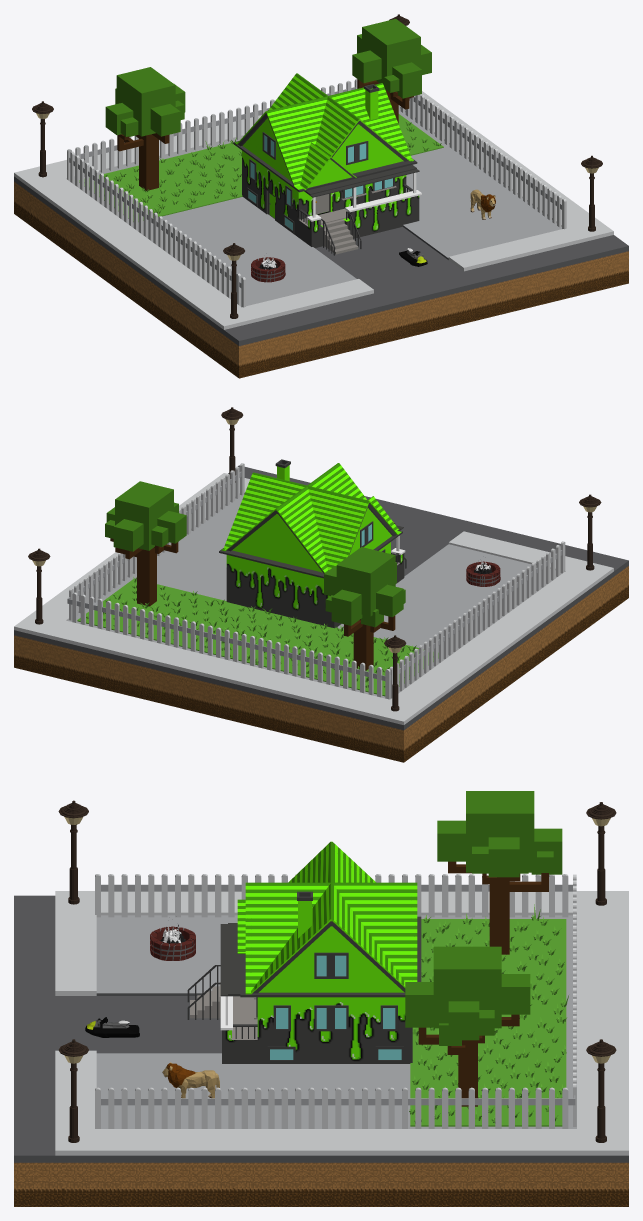
3 views of the same model, one above another, from view 1: azimuth 30°, elevation 25°; view 2: azimuth 150°, elevation 25°; view 3: azimuth 270°, elevation 25° (orthographic). The views are drawn at different scales.
Parts seen in each view (by area): view 1: Cube.004, Cube.754, OBJRANDOM_CAMPFIRE, ANIMAL_LEON; view 2: Cube.004, Cube.754, OBJRANDOM_CAMPFIRE; view 3: Cube.004, Cube.754, OBJRANDOM_CAMPFIRE, ANIMAL_LEON, VEHICLES_WATERBIKE.
Boxes of the visible parts, x1,y1,x2,y2 form: Cube.004: (14,14,628,378); Cube.754: (233,73,421,255); OBJRANDOM_CAMPFIRE: (251,255,285,282); ANIMAL_LEON: (470,189,495,219); Cube.004: (14,407,628,762); Cube.754: (219,459,406,628); OBJRANDOM_CAMPFIRE: (466,561,500,586); Cube.004: (14,791,628,1206); Cube.754: (187,841,421,1063); OBJRANDOM_CAMPFIRE: (150,924,195,960); ANIMAL_LEON: (162,1062,219,1098); VEHICLES_WATERBIKE: (85,1017,139,1037).
Size of the model in its own units: 4000 by 1700 by 4000.
Materials: 29 (4 with a texture image).
